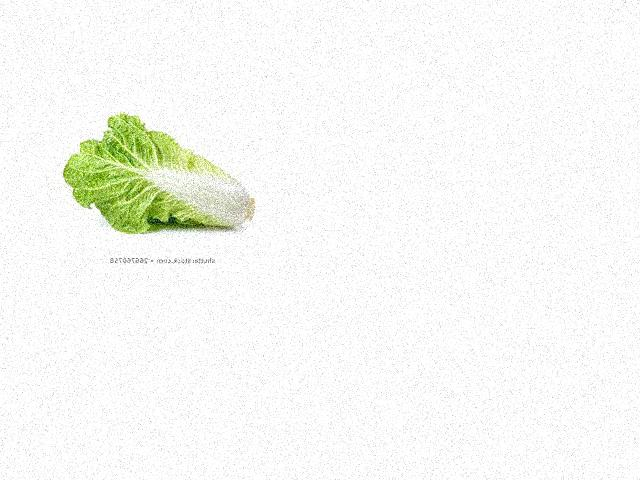lettuce: (83, 119, 249, 226)
